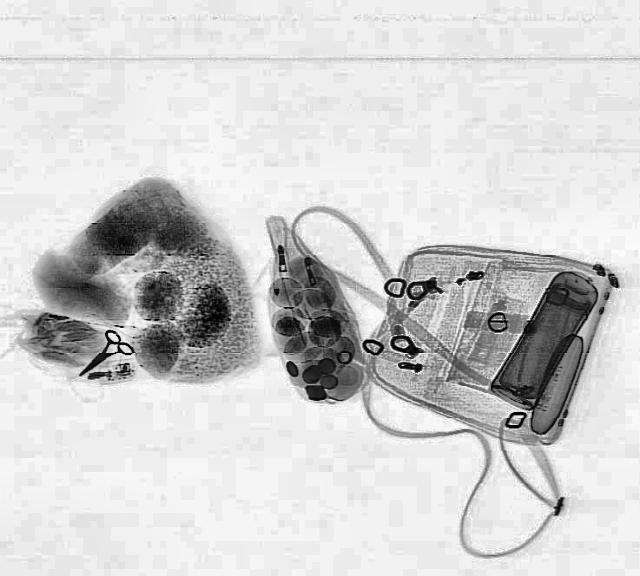Scissors: (63, 327, 134, 385)
